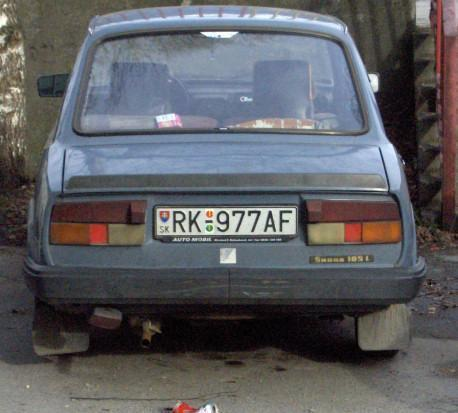placa de veiculo: (146, 194, 309, 255)
